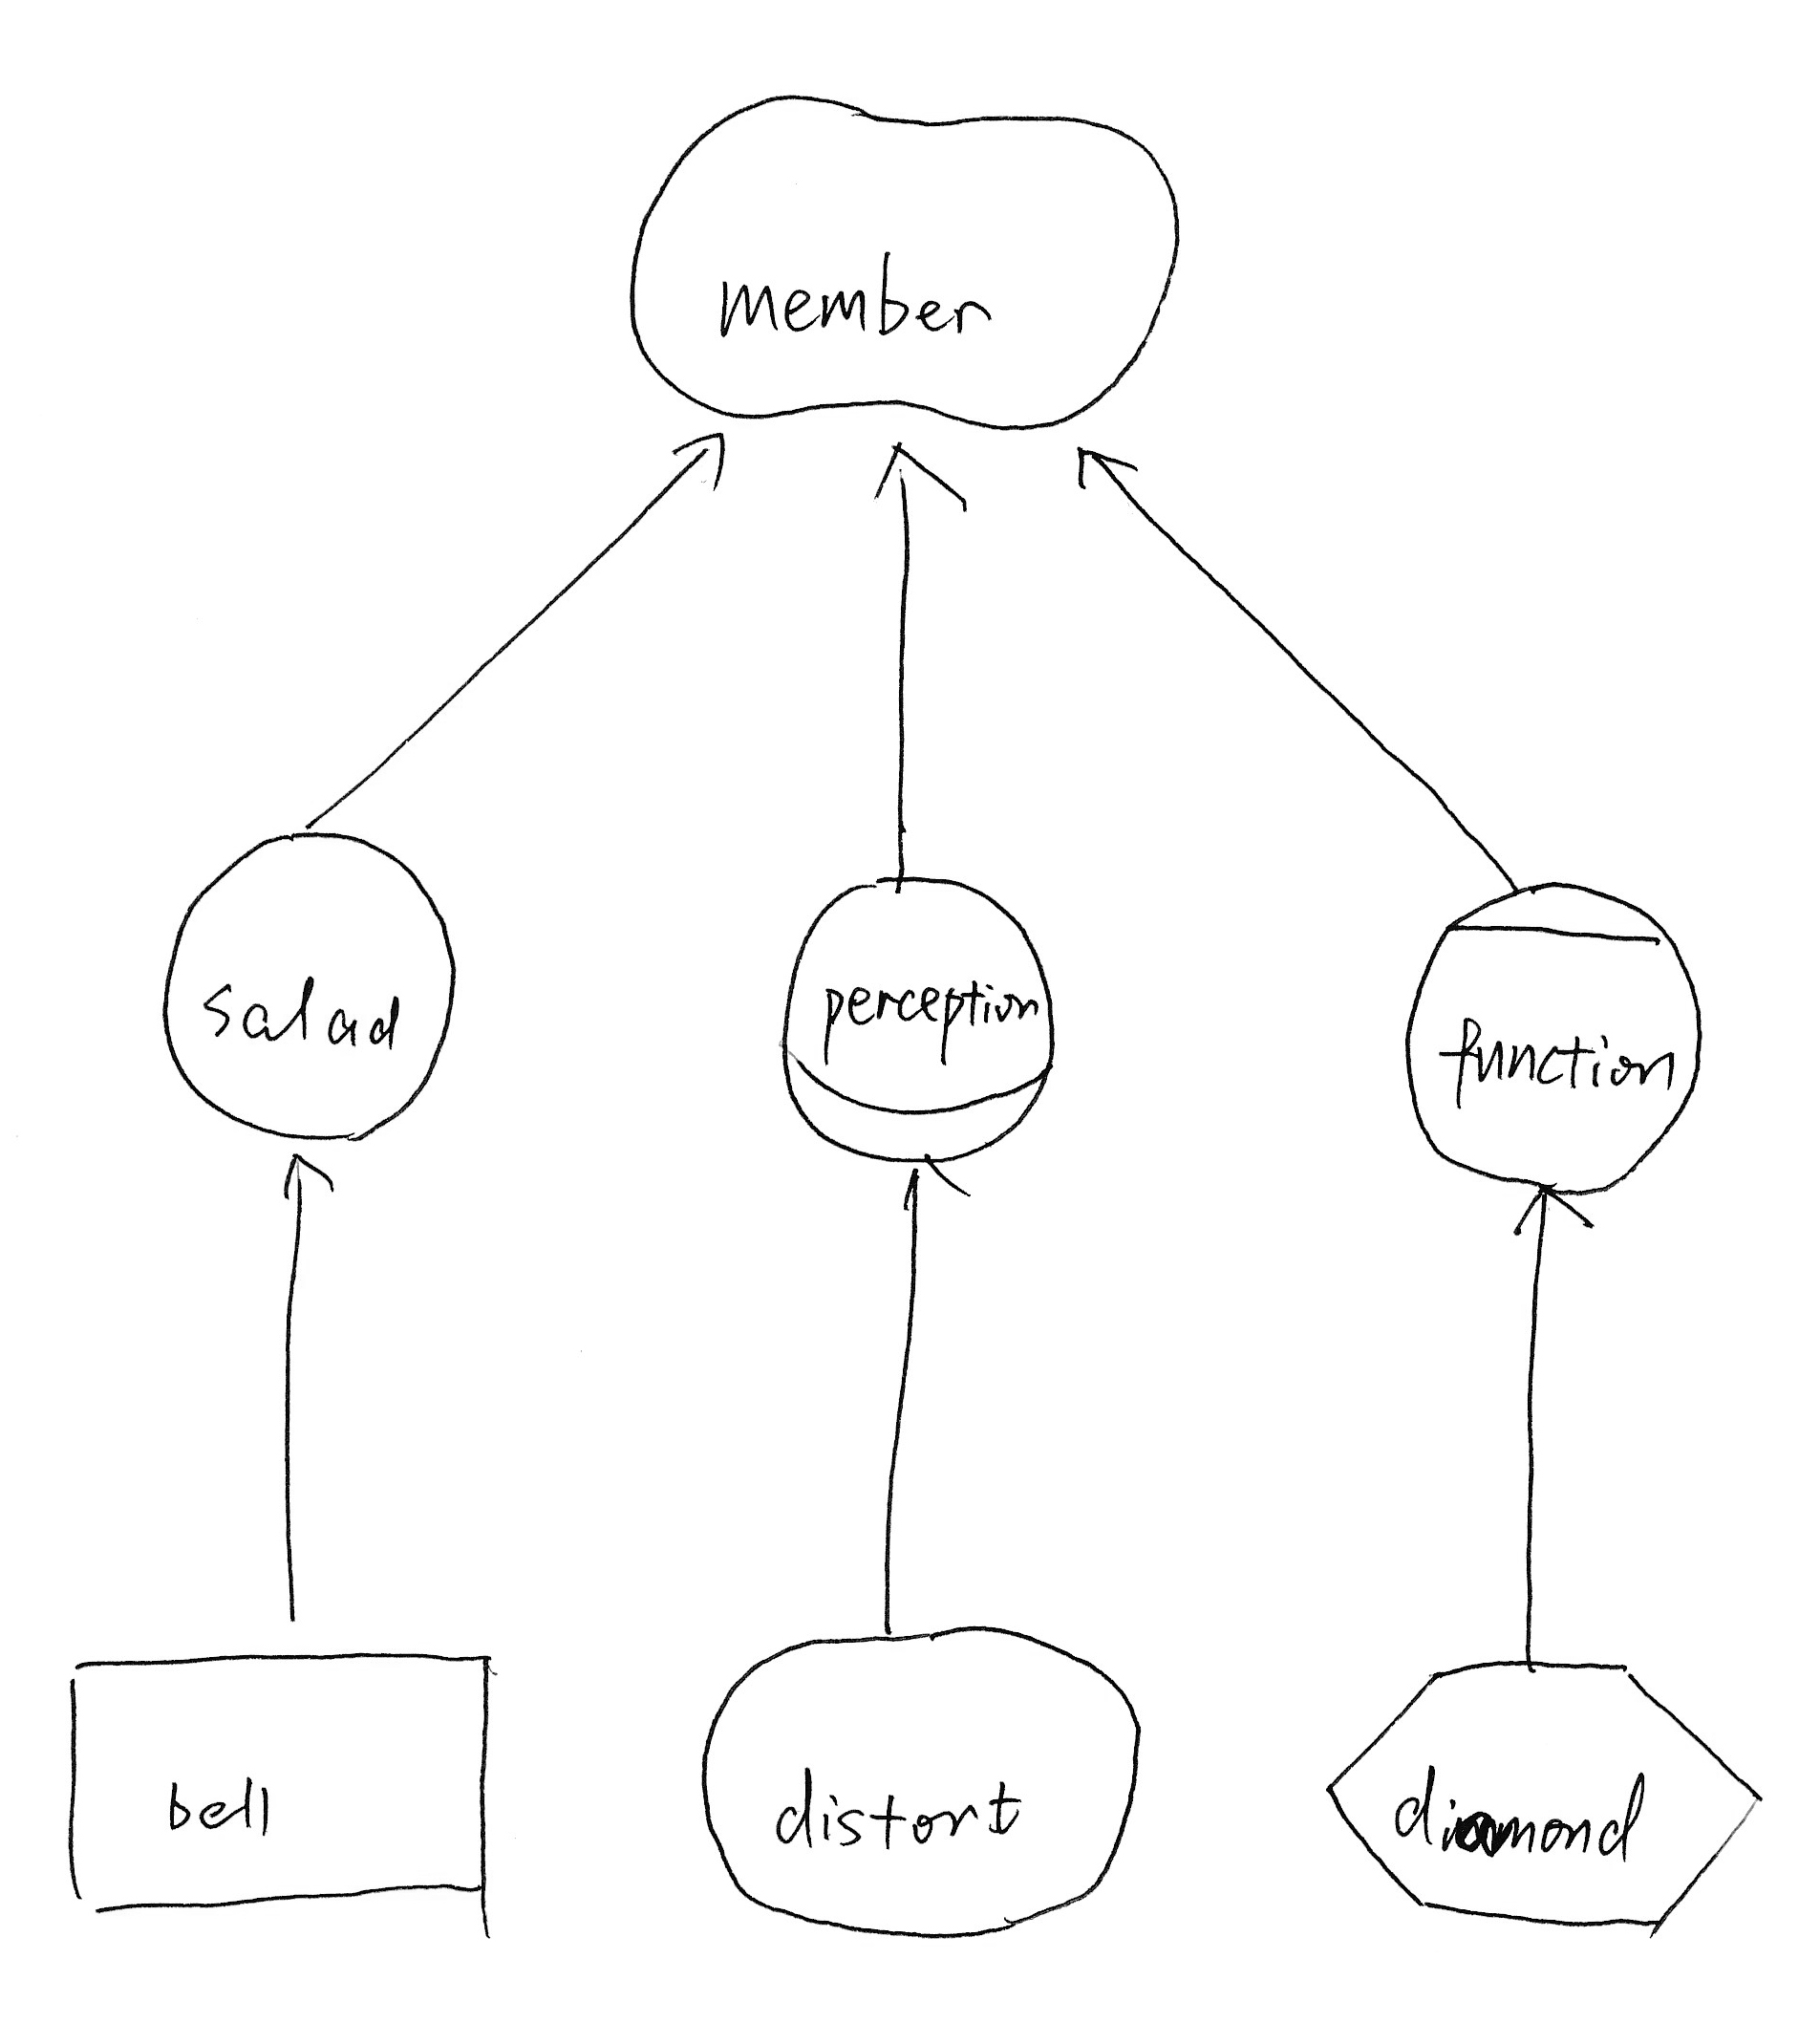actor: (141, 816, 473, 1157)
agent: (1390, 868, 1718, 1211)
arrow: (854, 425, 975, 550), (260, 1142, 357, 1218), (1049, 431, 1145, 501), (1506, 1183, 1604, 1250), (889, 1155, 971, 1230), (655, 420, 740, 494)
goal: (682, 1608, 1161, 1954)
quality: (604, 70, 1195, 452)
resource: (42, 1626, 516, 1946)
role: (762, 858, 1075, 1178)
task: (1311, 1642, 1780, 1954)
